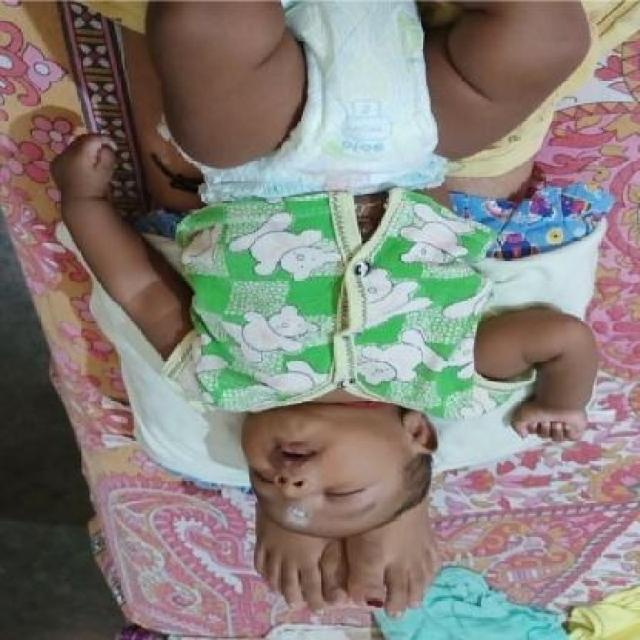baby: (47, 1, 598, 544)
